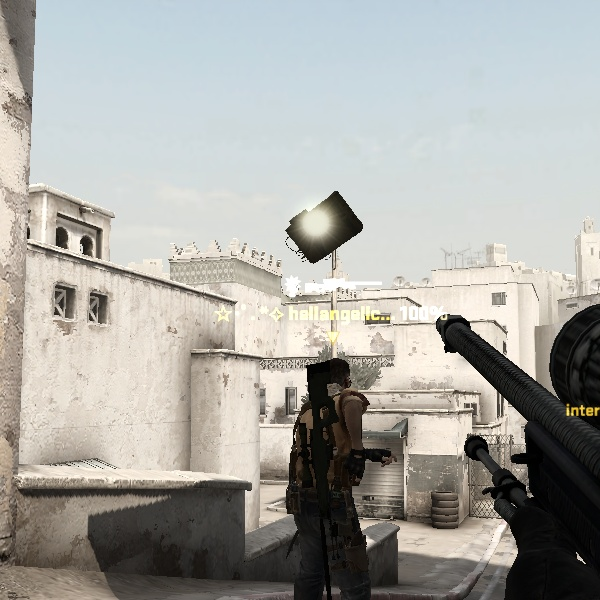t_body: (252, 350, 393, 599)
t_head: (310, 350, 362, 397)
